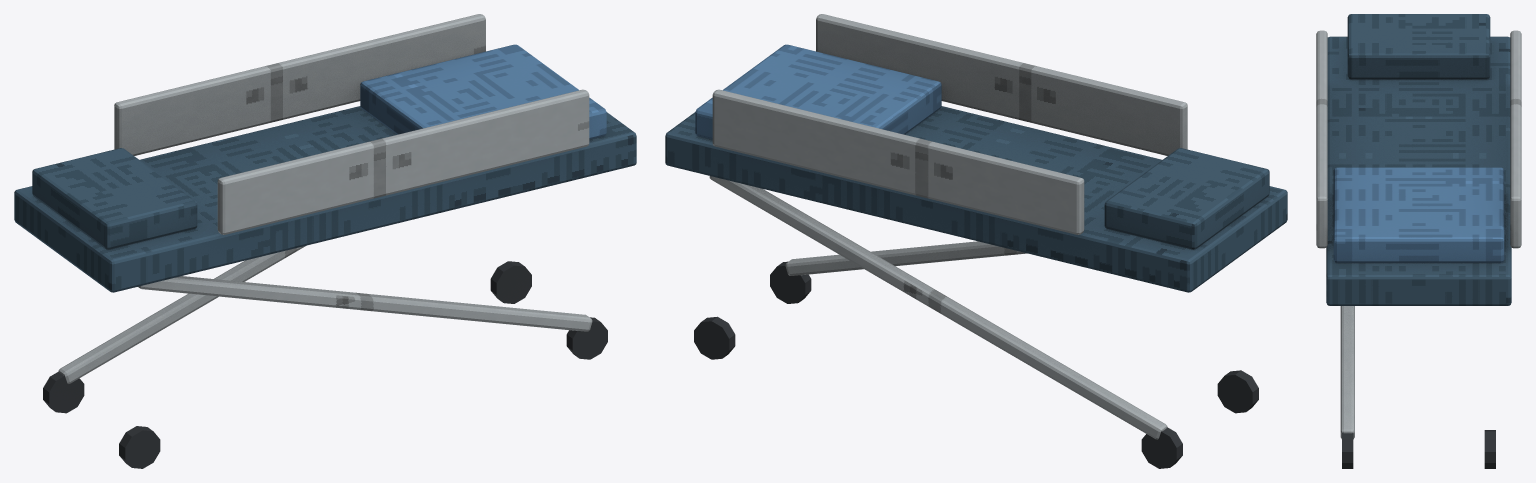
The model's file is base_gurney.glb.
The picture shows the model from 3 angles, left to right: view 1: azimuth 30°, elevation 25°; view 2: azimuth 150°, elevation 25°; view 3: azimuth 270°, elevation 25°; orthographic projection. The views are drawn at different scales.
Visible parts, largest first — view 1: base_gurney; view 2: base_gurney; view 3: base_gurney.
Part boxes in pixels (x1,y1,x2,y2): base_gurney: [14, 14, 636, 468]; base_gurney: [665, 14, 1287, 468]; base_gurney: [1316, 14, 1521, 468].
Bounding box in the file's own units: 2 × 1.02 × 0.72.
Materials: 4 (4 with a texture image).
